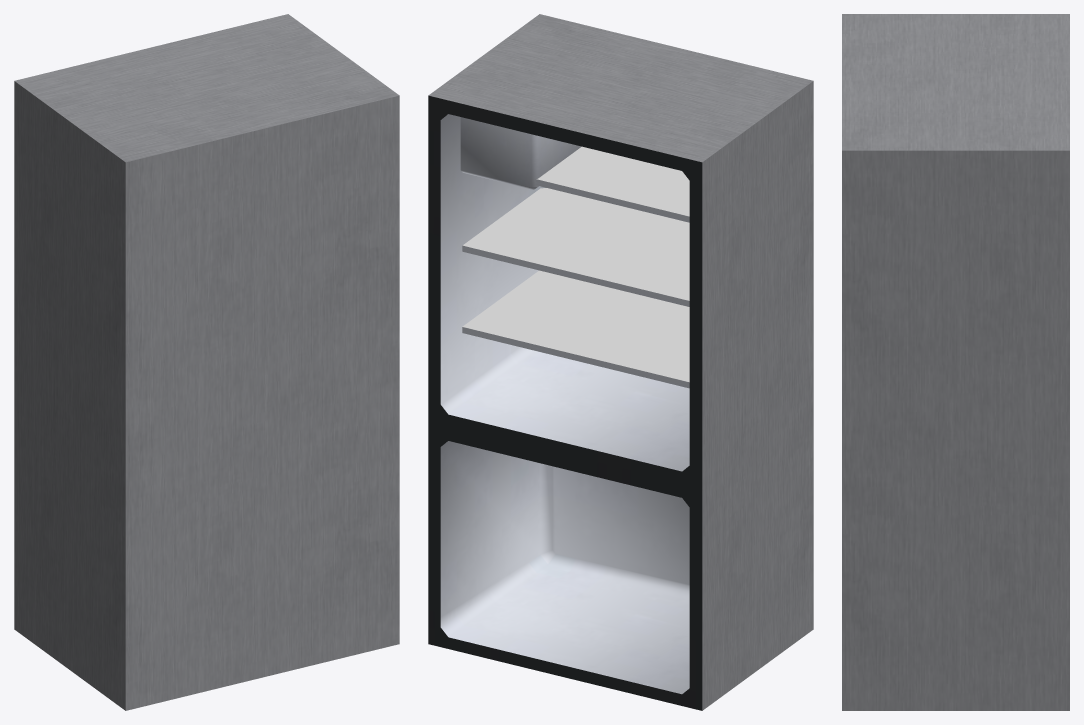
The model's file is Refrigerator_01.glb.
3 renders of one model, left to right at view 1: azimuth 30°, elevation 25°; view 2: azimuth 150°, elevation 25°; view 3: azimuth 270°, elevation 25°, orthographic. The views are drawn at different scales.
Parts seen in each view (by area): view 1: Refrigerator_01; view 2: Refrigerator_01; view 3: Refrigerator_01.
Boxes of the visible parts, box(x1,y1,x2,y2) form: Refrigerator_01: box(14, 14, 399, 710); Refrigerator_01: box(428, 14, 813, 710); Refrigerator_01: box(842, 14, 1069, 710).
Bounding box in the file's own units: 1.11 × 2.13 × 0.7848.
4 materials, 3 textured.
